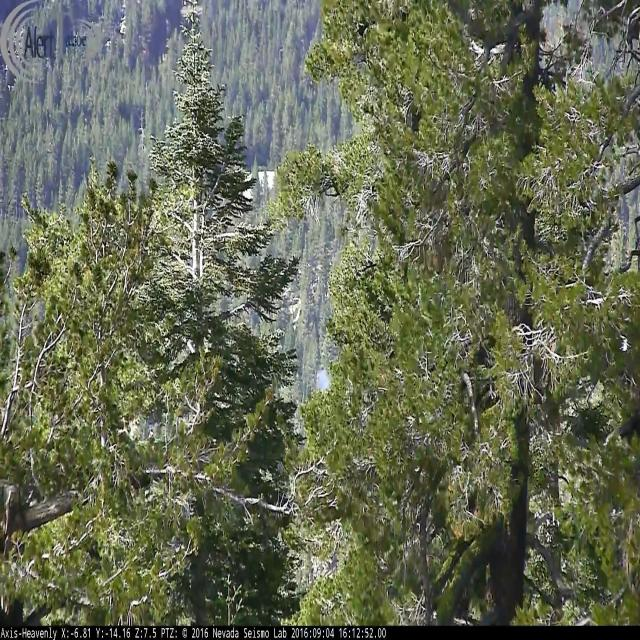smoke: (316, 364, 332, 395)
